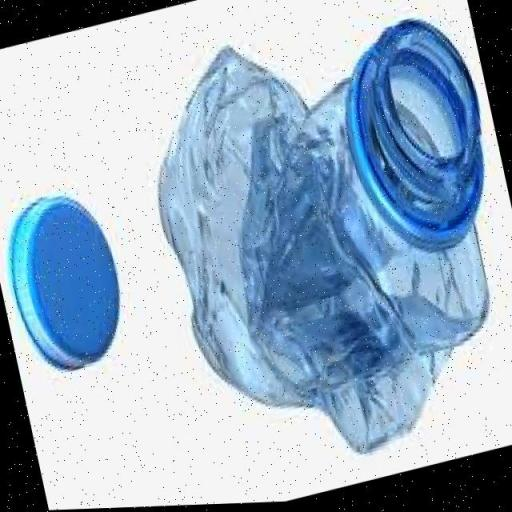plastic: (123, 0, 512, 501)
